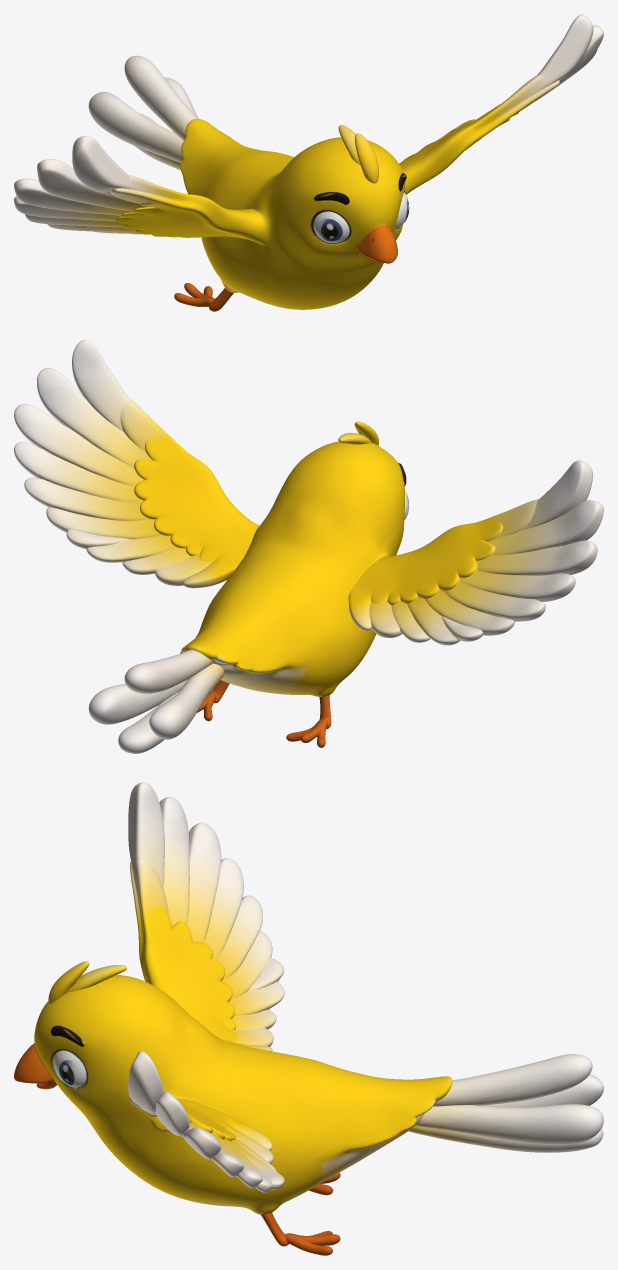
3 renders of one model, top to bottom at view 1: azimuth 30°, elevation 25°; view 2: azimuth 150°, elevation 25°; view 3: azimuth 270°, elevation 25°, orthographic. The views are drawn at different scales.
Bounding box in the file's own units: 1.9 × 0.847 × 1.51.
1 material, 1 textured.
